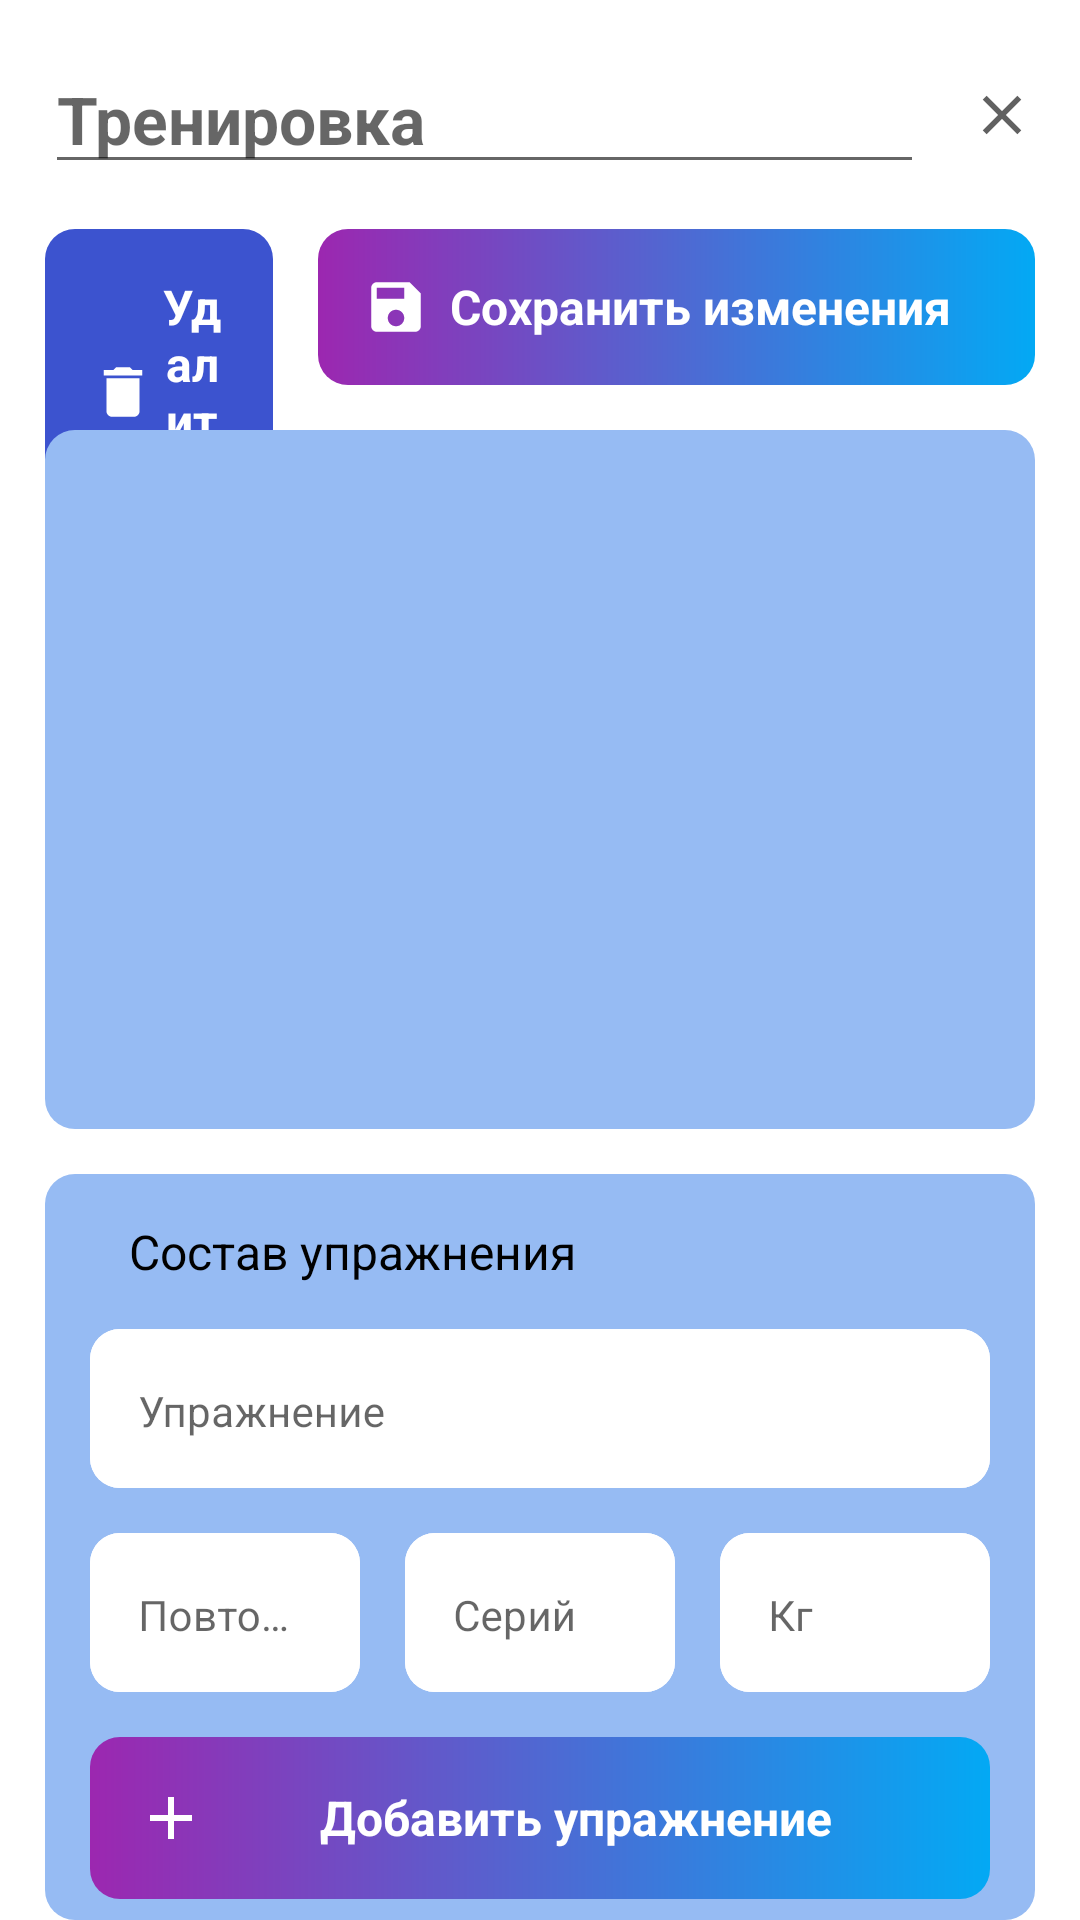

Screen size 1080 x 1920. Icon name, then its box in pixels as {"left": x1, "top": y1, "right": x2, "bottom": y2}:
meal fit close: {"left": 983, "top": 96, "right": 1021, "bottom": 134}
